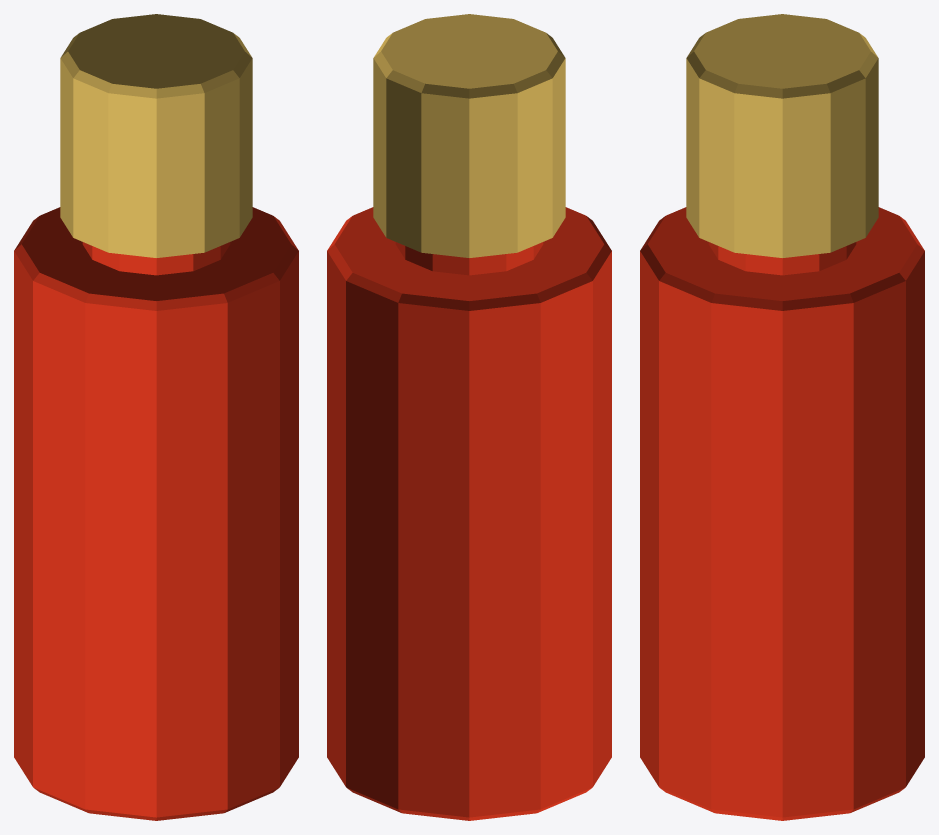
File: Cosmetic Bottle.fbx
The picture shows the model from 3 angles, left to right: view 1: azimuth 30°, elevation 25°; view 2: azimuth 150°, elevation 25°; view 3: azimuth 270°, elevation 25°; orthographic projection.
Parts seen in each view (by area): view 1: Node 0; view 2: Node 0; view 3: Node 0.
Boxes of the visible parts, x1,y1,x2,y2 form: Node 0: [14, 14, 298, 820]; Node 0: [327, 14, 611, 820]; Node 0: [640, 14, 924, 820].
Size of the model in its own units: 0.0522 by 0.1441 by 0.0522.
